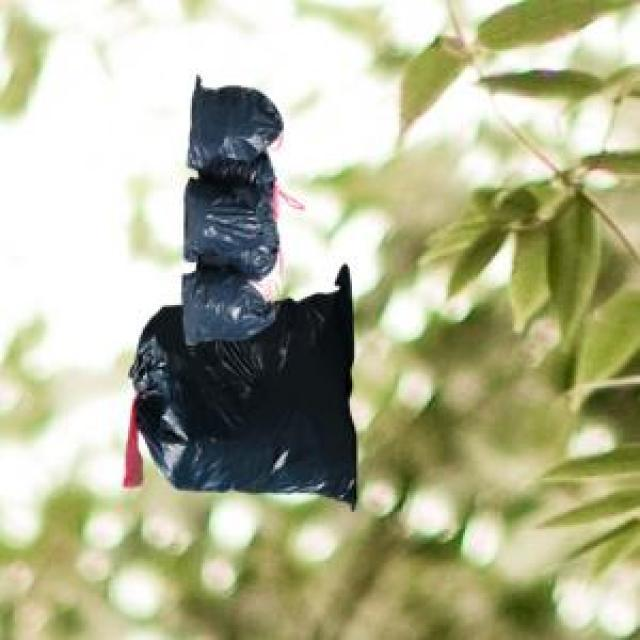miscellaneous trash: (121, 260, 352, 506), (177, 73, 280, 341)
